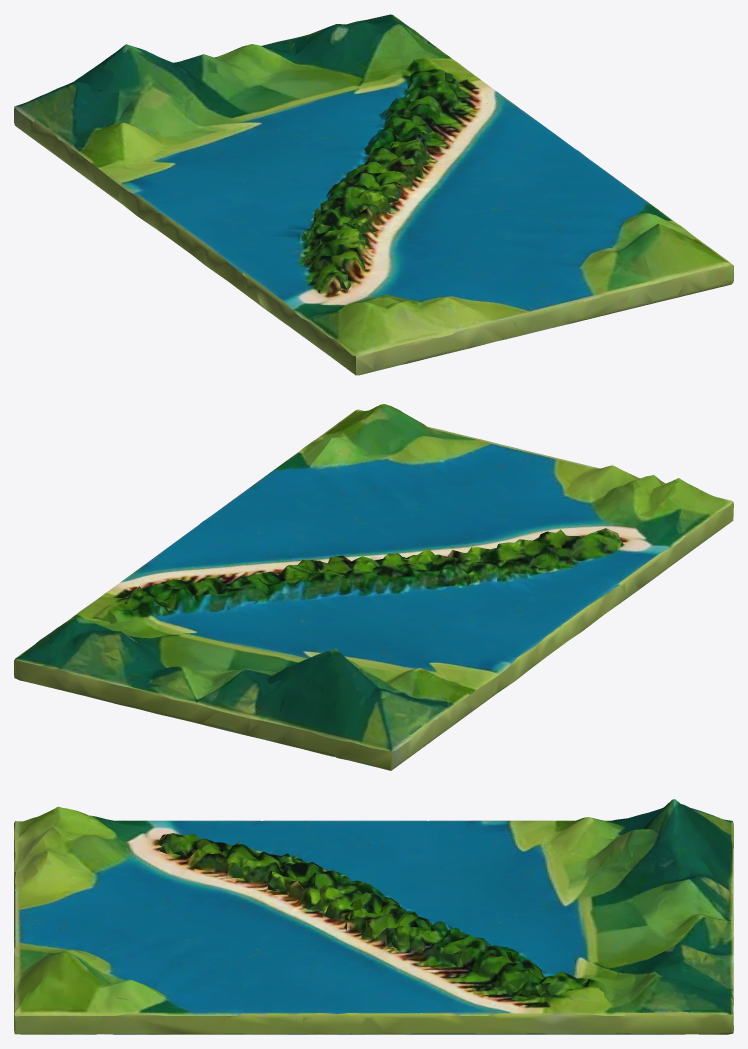
File: amanohashidate.glb
The picture shows the model from 3 angles, top to bottom: view 1: azimuth 30°, elevation 25°; view 2: azimuth 150°, elevation 25°; view 3: azimuth 270°, elevation 25°; orthographic projection. The views are drawn at different scales.
Parts seen in each view (by area): view 1: logan-textured.obj; view 2: logan-textured.obj; view 3: logan-textured.obj.
Part boxes in pixels (x1,y1,x2,y2): logan-textured.obj: [14, 14, 733, 375]; logan-textured.obj: [14, 404, 733, 770]; logan-textured.obj: [14, 799, 733, 1034].
Size of the model in its own units: 0.6388 by 0.1321 by 1.
Materials: 1 (1 with a texture image).
